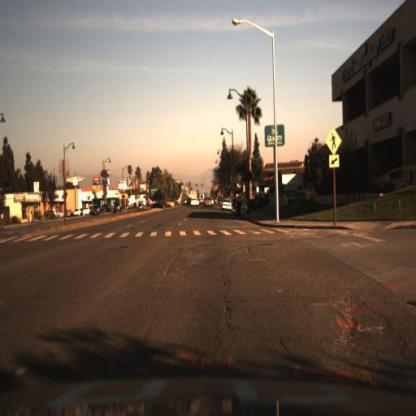car: (219, 197, 234, 215)
